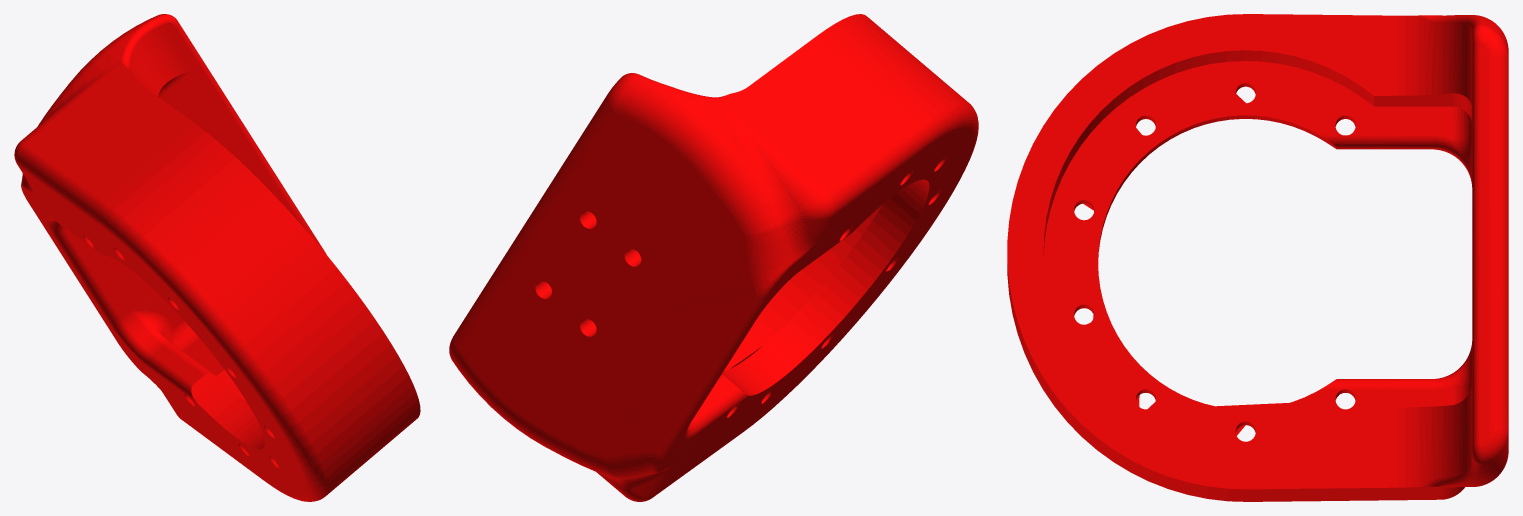
The model's file is legs_1_left_leg_1_hip_rotate_1.glb.
3 views of the same model, side by side, from view 1: azimuth 30°, elevation 25°; view 2: azimuth 150°, elevation 25°; view 3: azimuth 270°, elevation 25° (orthographic). The views are drawn at different scales.
Visible parts, largest first — view 1: legs_1_left_leg_1_hip_rotate_1.obj; view 2: legs_1_left_leg_1_hip_rotate_1.obj; view 3: legs_1_left_leg_1_hip_rotate_1.obj.
Boxes of the visible parts, <box> form: legs_1_left_leg_1_hip_rotate_1.obj: <box>14,14,420,501</box>; legs_1_left_leg_1_hip_rotate_1.obj: <box>449,14,978,501</box>; legs_1_left_leg_1_hip_rotate_1.obj: <box>1007,14,1508,501</box>.
Size of the model in its own units: 0.11 by 0.1277 by 0.1239.
